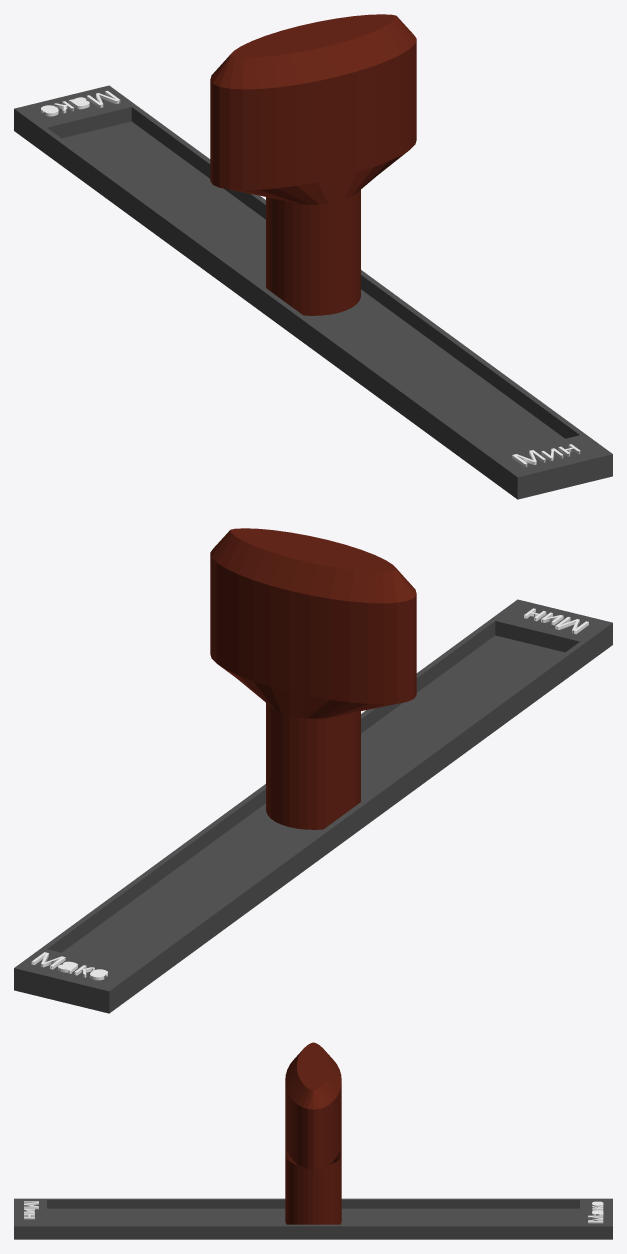
The model's file is Rpm_slider.fbx.
3 renders of one model, top to bottom at view 1: azimuth 30°, elevation 25°; view 2: azimuth 150°, elevation 25°; view 3: azimuth 270°, elevation 25°, orthographic. The views are drawn at different scales.
Visible parts, largest first — view 1: Back, Head; view 2: Back, Head; view 3: Back, Head.
Boxes of the visible parts, bbox=[...] form: Back: bbox=[14, 85, 612, 499]; Head: bbox=[210, 14, 416, 315]; Back: bbox=[14, 599, 612, 1013]; Head: bbox=[210, 528, 416, 829]; Back: bbox=[14, 1198, 612, 1239]; Head: bbox=[285, 1042, 341, 1224].
Bounding box in the file's own units: 18.89 × 24.02 × 81.97.
